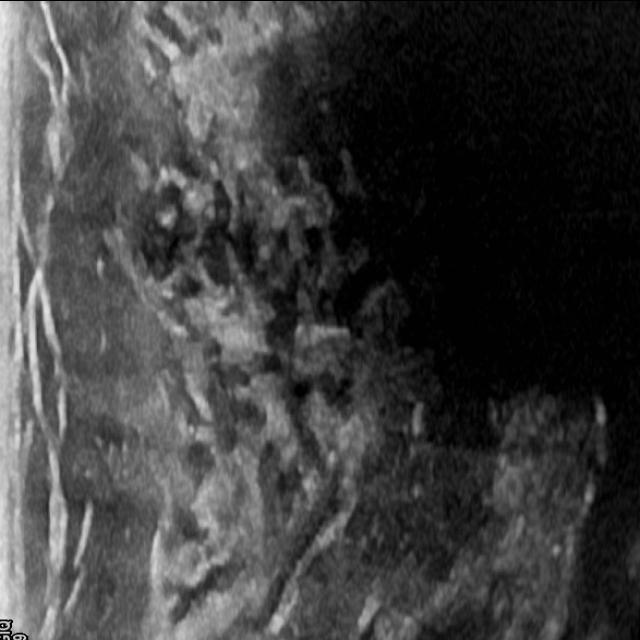Normal: (19, 32, 604, 610)
